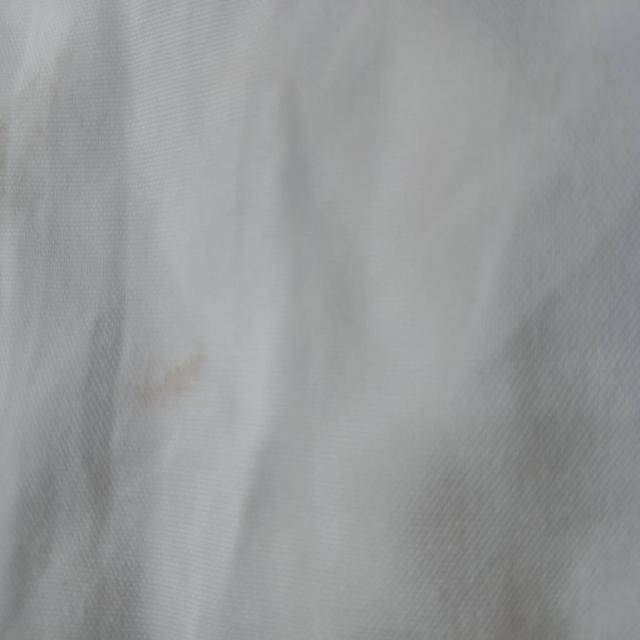stain: (128, 336, 218, 407)
